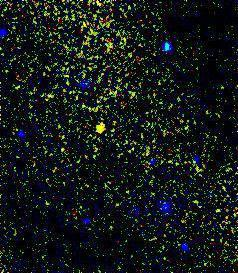star: (89, 114, 119, 144)
